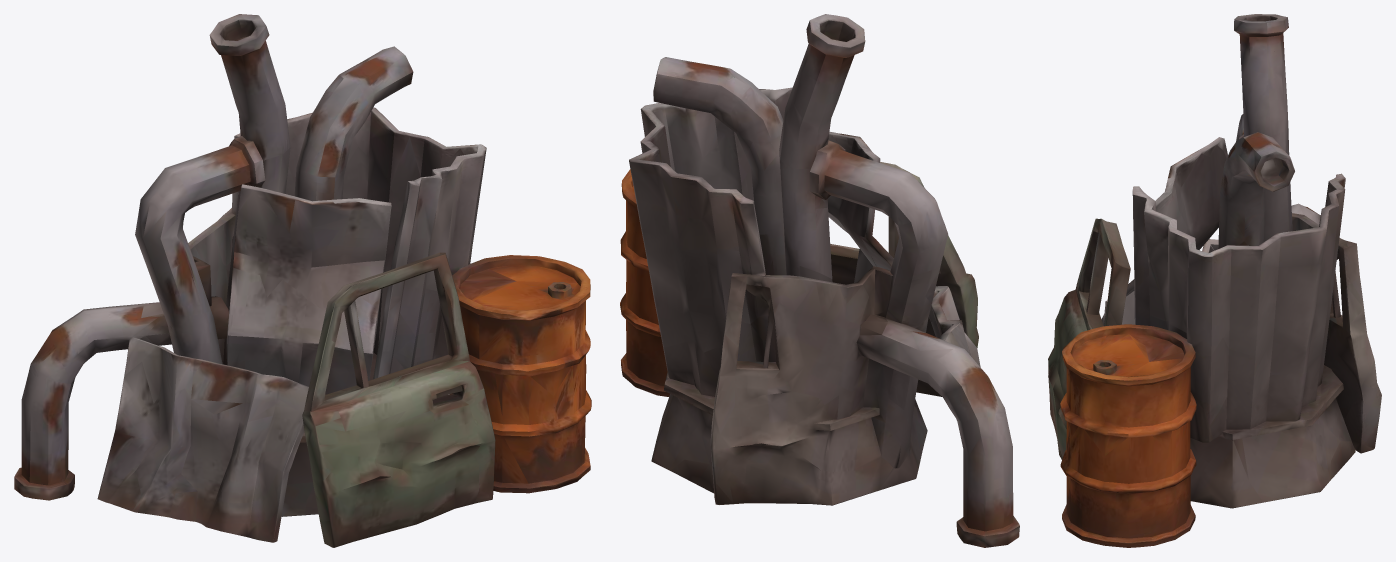
The model's file is isle_scrap_idle.glb.
3 views of the same model, side by side, from view 1: azimuth 30°, elevation 25°; view 2: azimuth 150°, elevation 25°; view 3: azimuth 270°, elevation 25° (orthographic). The views are drawn at different scales.
Parts seen in each view (by area): view 1: tripo_node_e9435e95-549e-46cf-9aec-385d9fe04f0a; view 2: tripo_node_e9435e95-549e-46cf-9aec-385d9fe04f0a; view 3: tripo_node_e9435e95-549e-46cf-9aec-385d9fe04f0a.
Part boxes in pixels (<box>): tripo_node_e9435e95-549e-46cf-9aec-385d9fe04f0a: <box>14,14,591,547</box>; tripo_node_e9435e95-549e-46cf-9aec-385d9fe04f0a: <box>620,14,1019,547</box>; tripo_node_e9435e95-549e-46cf-9aec-385d9fe04f0a: <box>1048,14,1381,547</box>.
Bounding box in the file's own units: 2.4 × 2.16 × 1.58.
Materials: 1 (1 with a texture image).
